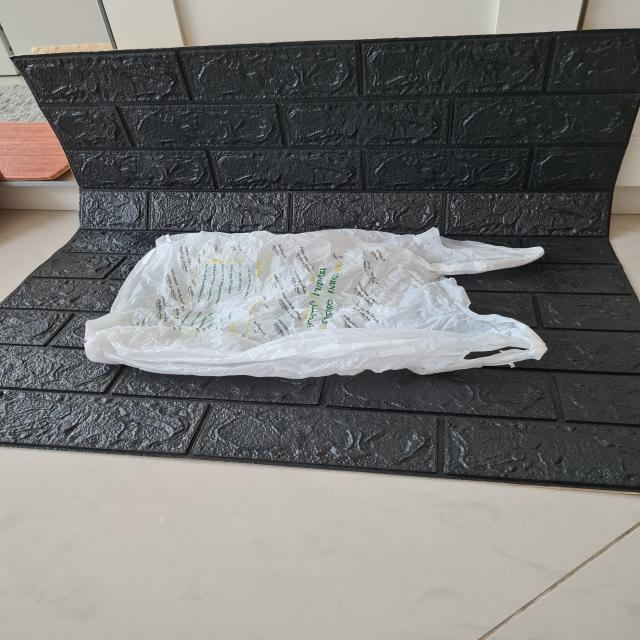Plastic_Bag: (82, 230, 558, 384)
